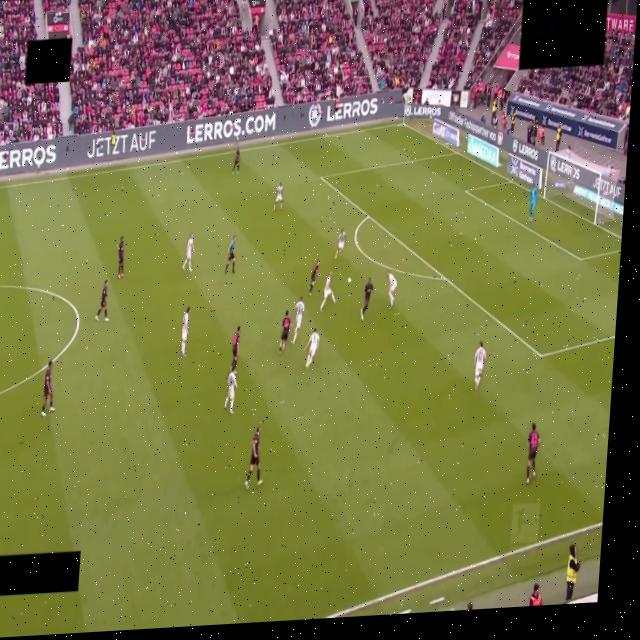ball: (348, 277, 352, 283)
player: (245, 427, 262, 489), (527, 423, 539, 485), (41, 361, 54, 417), (320, 272, 335, 311), (224, 371, 237, 415), (474, 341, 486, 388), (305, 329, 319, 368), (95, 281, 108, 320), (293, 297, 304, 343), (361, 278, 373, 320), (279, 310, 290, 353), (182, 234, 194, 272), (181, 308, 190, 357), (528, 183, 539, 222), (231, 326, 240, 372), (387, 272, 397, 309), (309, 260, 319, 294), (335, 229, 345, 258), (118, 237, 124, 279), (274, 183, 282, 212), (232, 146, 240, 174)
referee: (225, 236, 236, 272)
